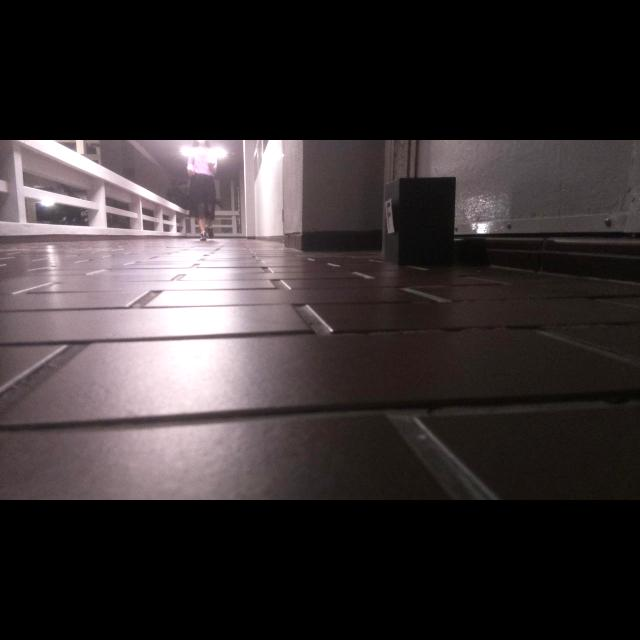F: (386, 202, 391, 229)
